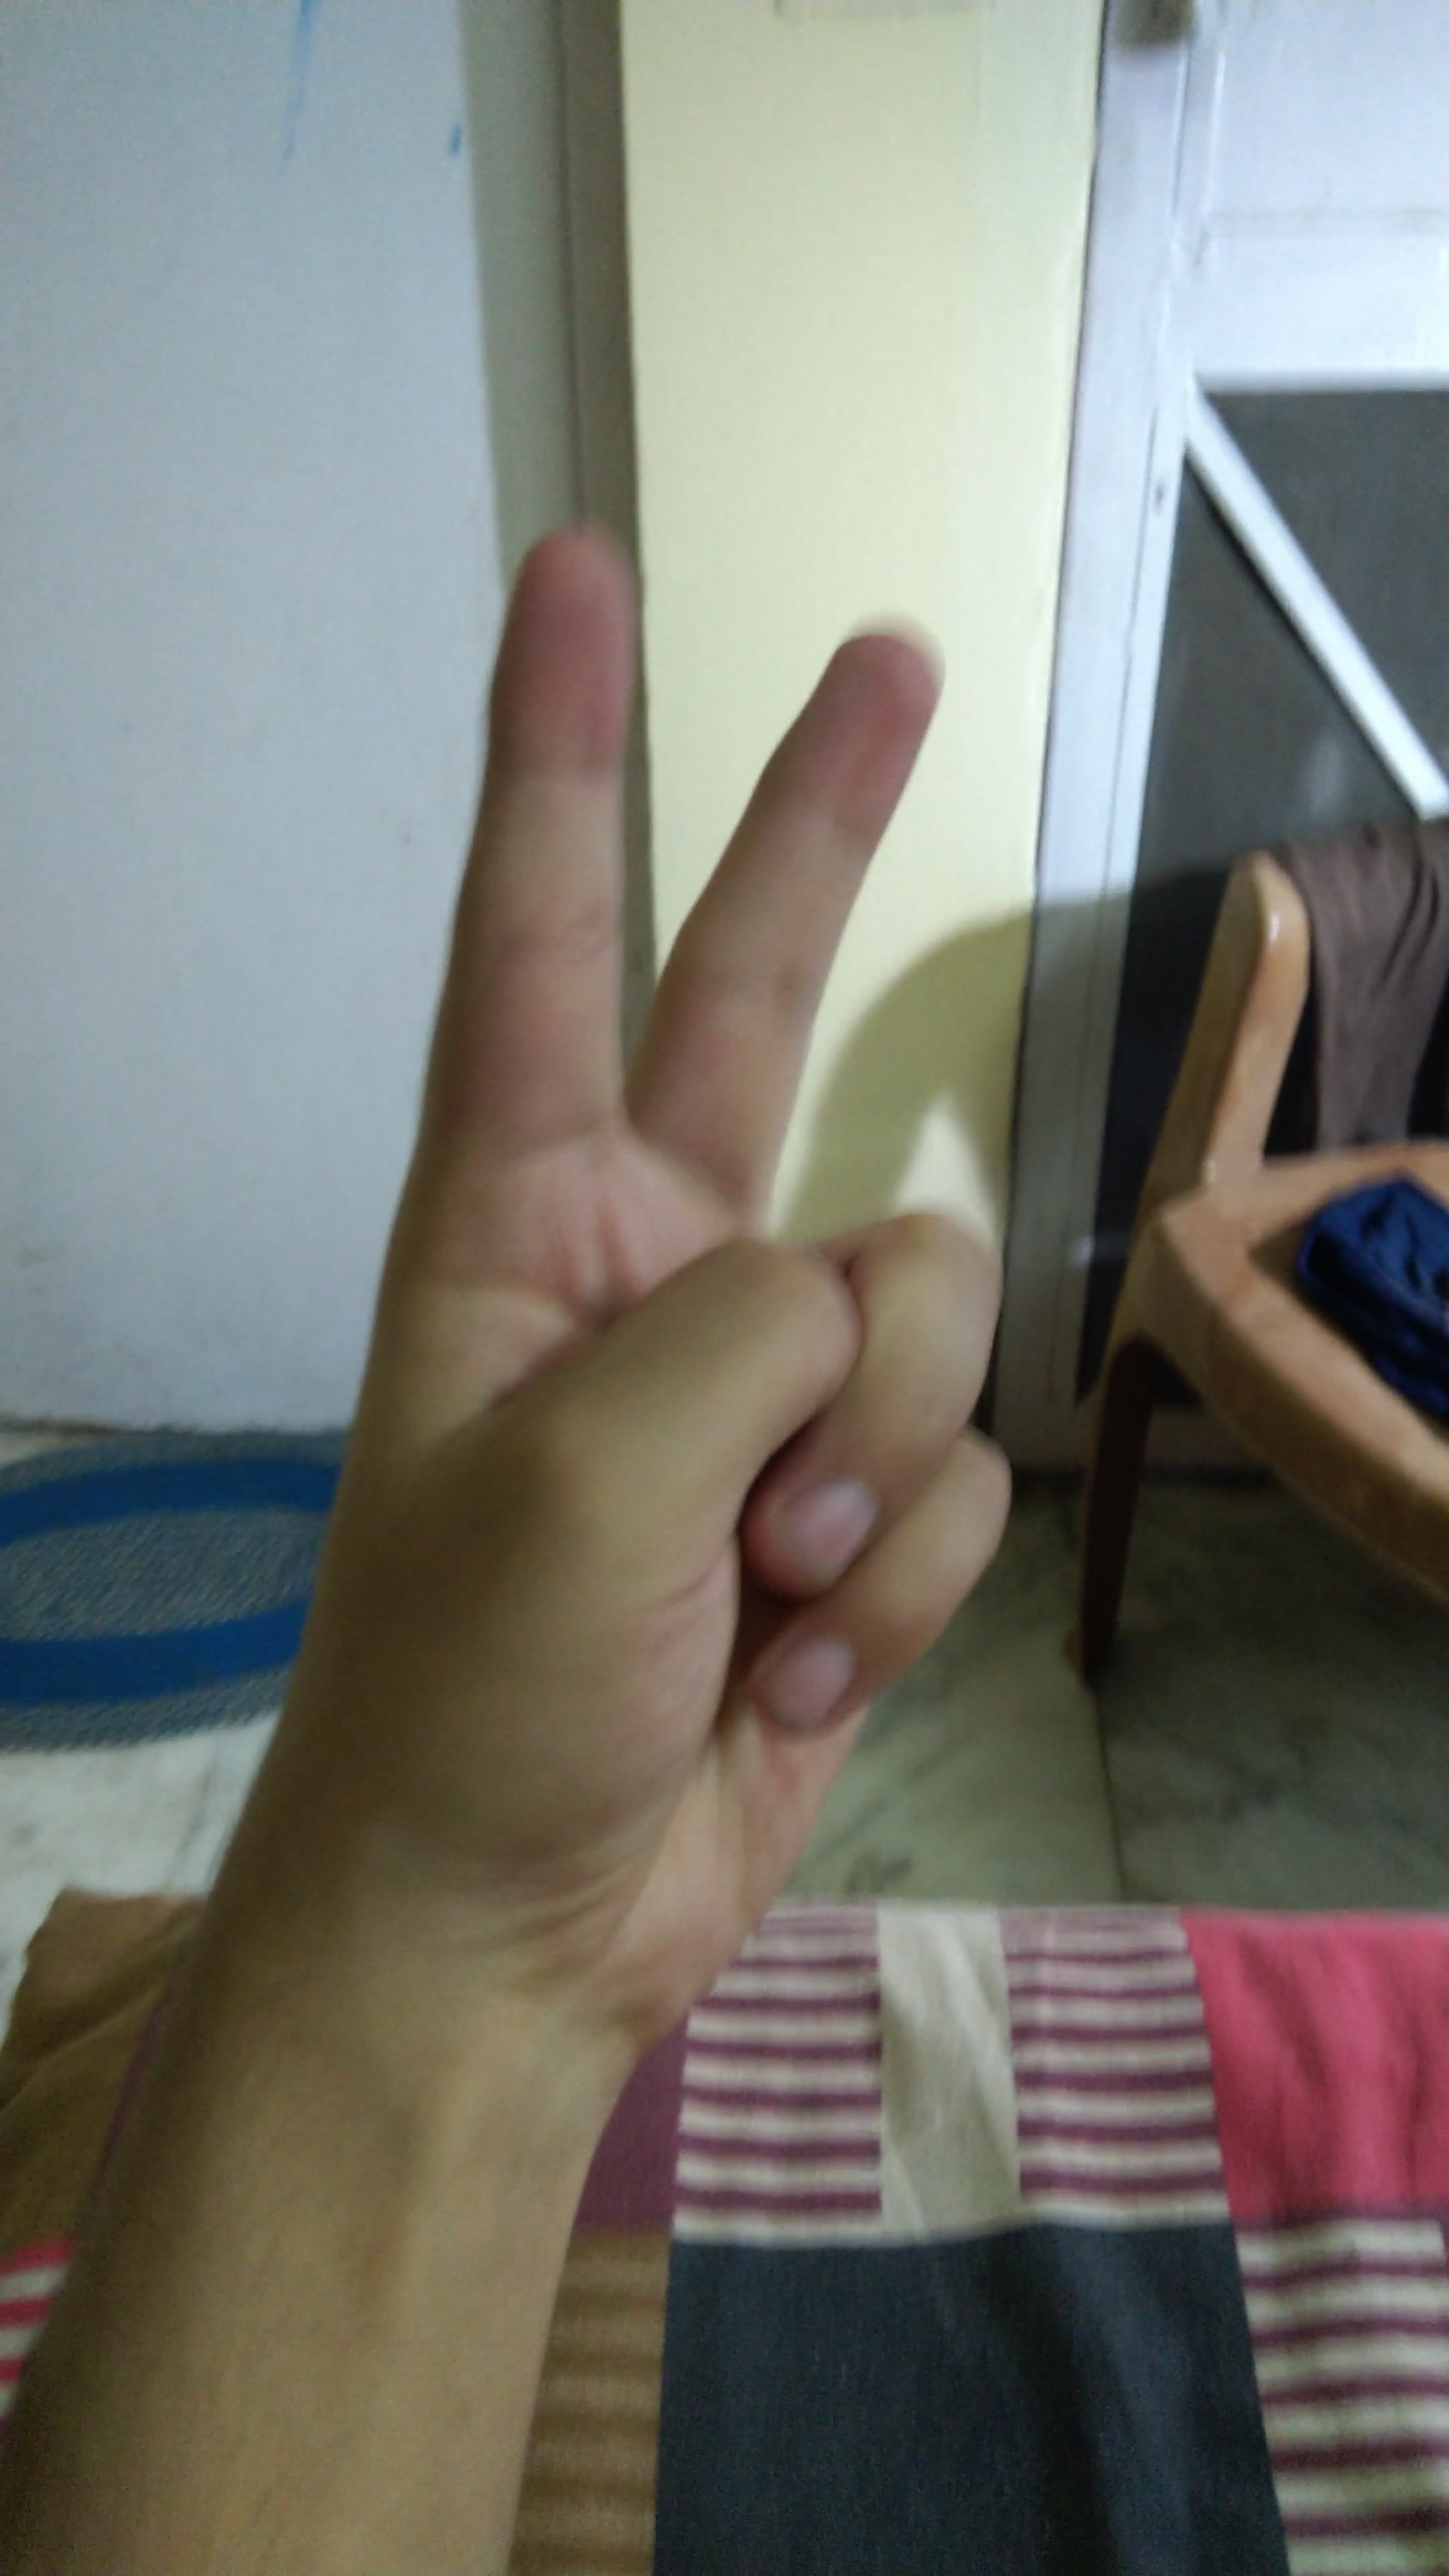hand: (200, 494, 1134, 2024)
